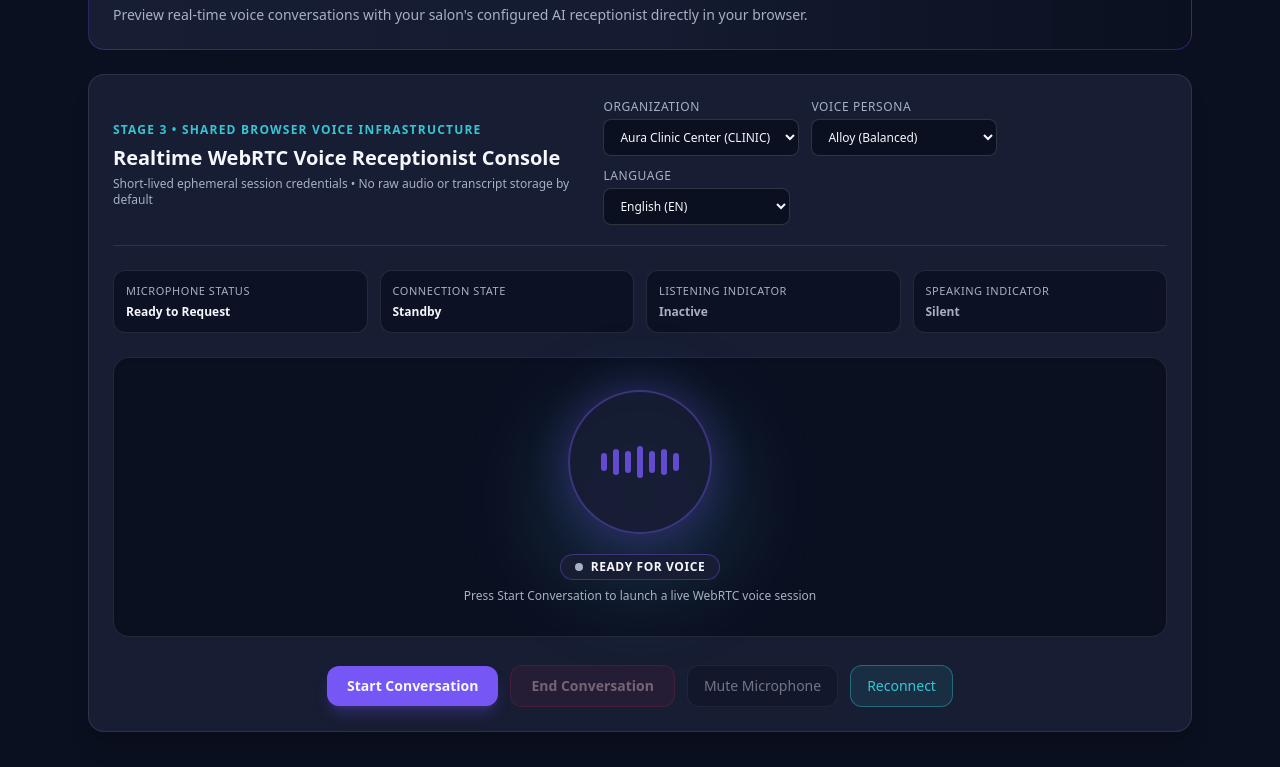
Test case: Stage 3 Shared Browser Voice Infrastructure › 3. transitions through connecting state while negotiating session and WebRTC SDP
Later steps or results of the test are not shown.
(page scrolled)
Click the button with test id "start-conversation-button": click(413, 686) x1=327 y1=666 x2=498 y2=706
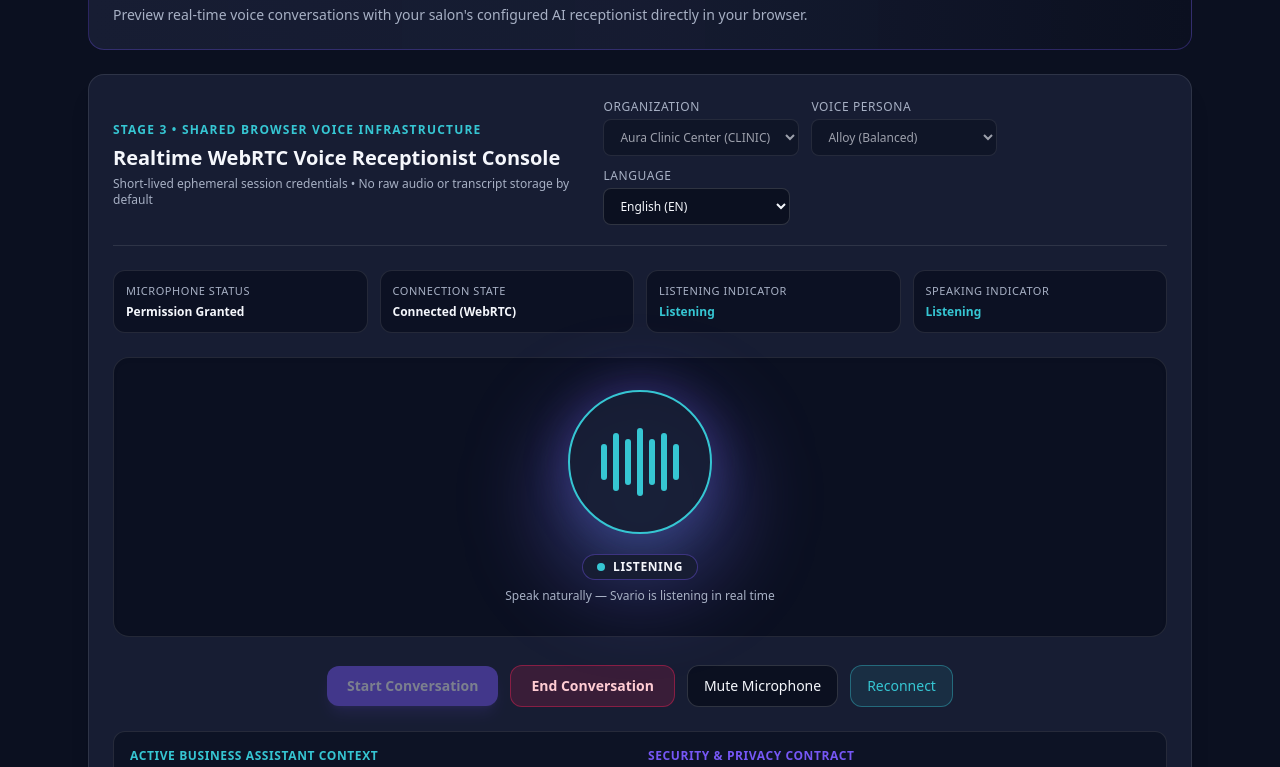
Check: the element with test id "voice-orb-waveform" has attribute data-voice-state="listening", box x1=113 y1=356 x2=1167 y2=636
